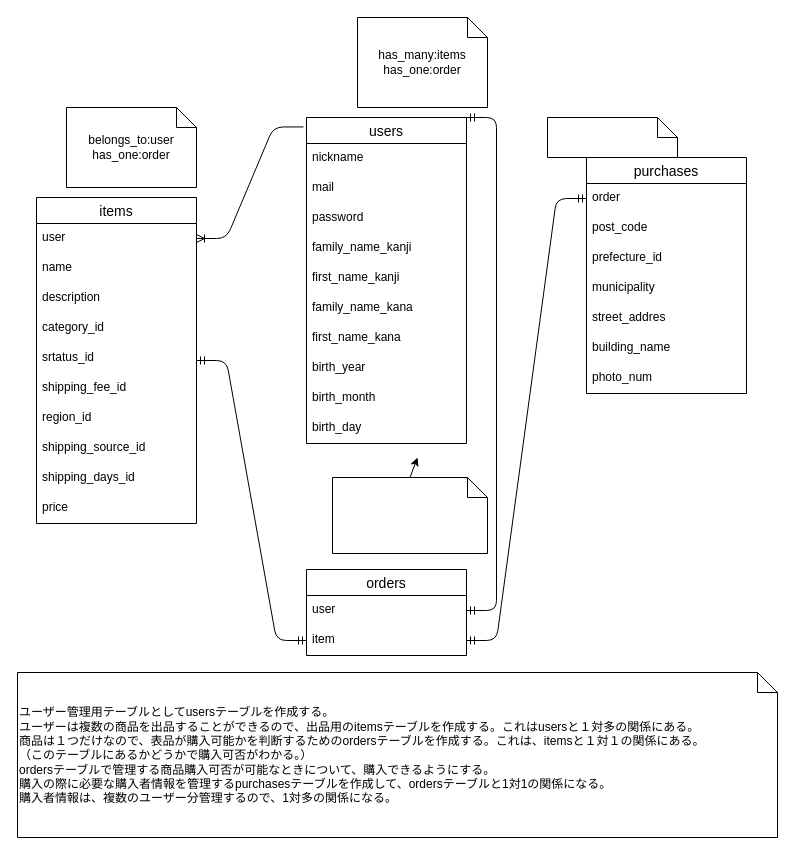
This 795x855 diagram has some shape labels left out. Here are the shapes that lost their labels. From the top down, the centre of each, then its label:
At pixel 612 137: "belongs_to:order".
At pixel 410 515: "belongs_to:user belongs_to:item has_one:purcahse".
